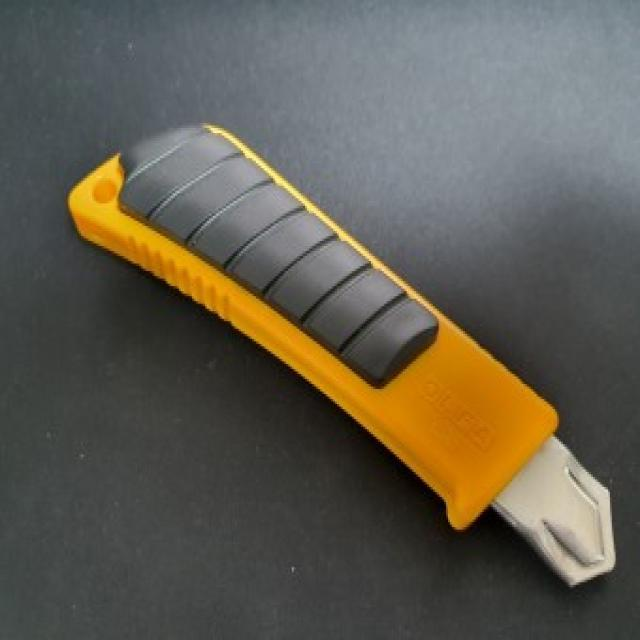cutter: (71, 109, 634, 604)
